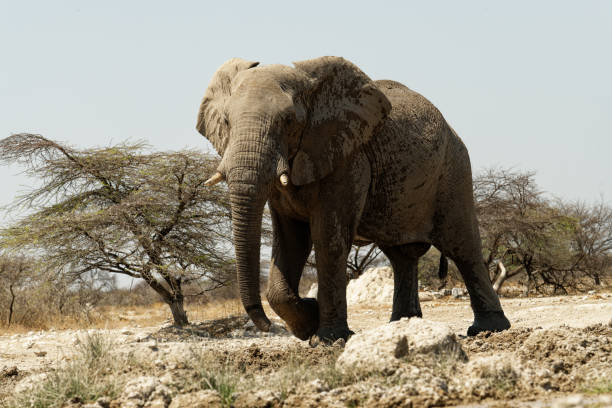africanelephant: (194, 46, 329, 278)
